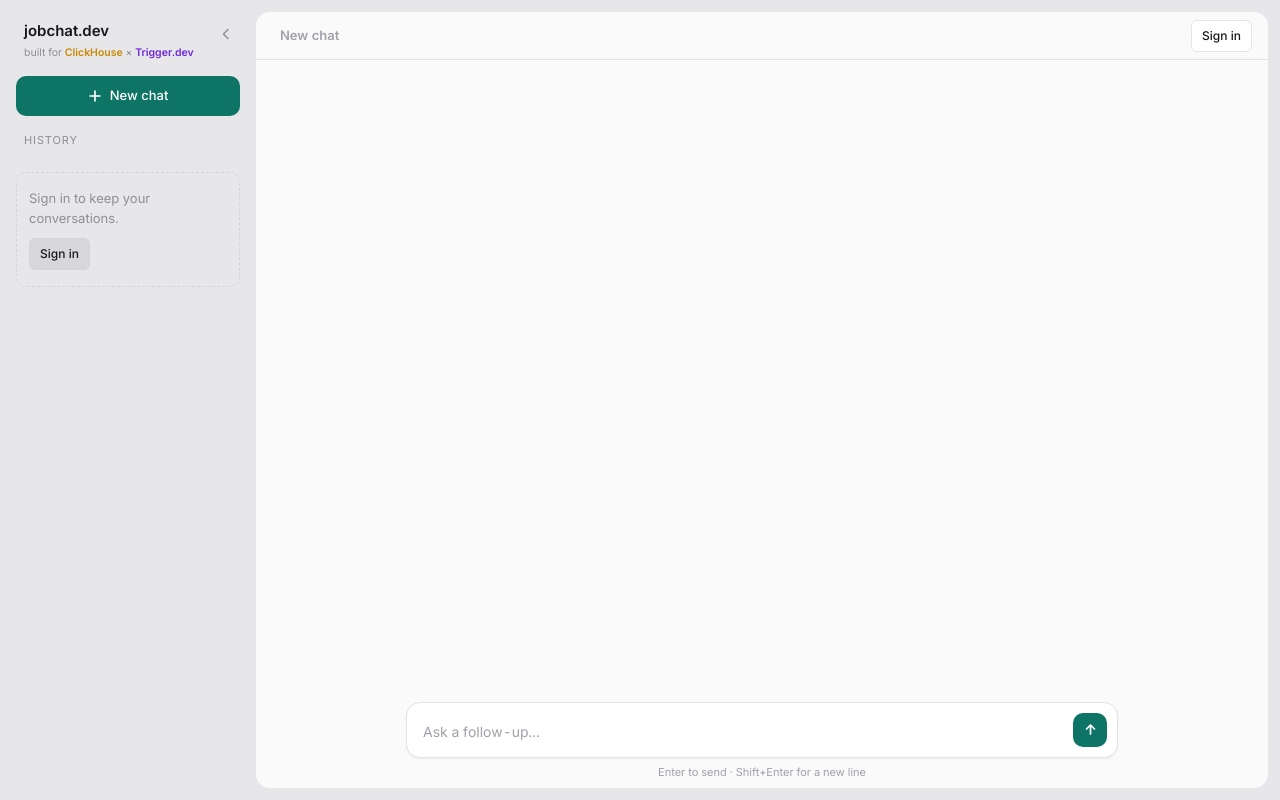
Test case: Should_ShowRegisterCardAndKeepComposerEnabled_When_Capped: chat composer
In the text box labelled "Ask a follow-up": (743, 731) [423, 716, 1063, 746], type "One more question"
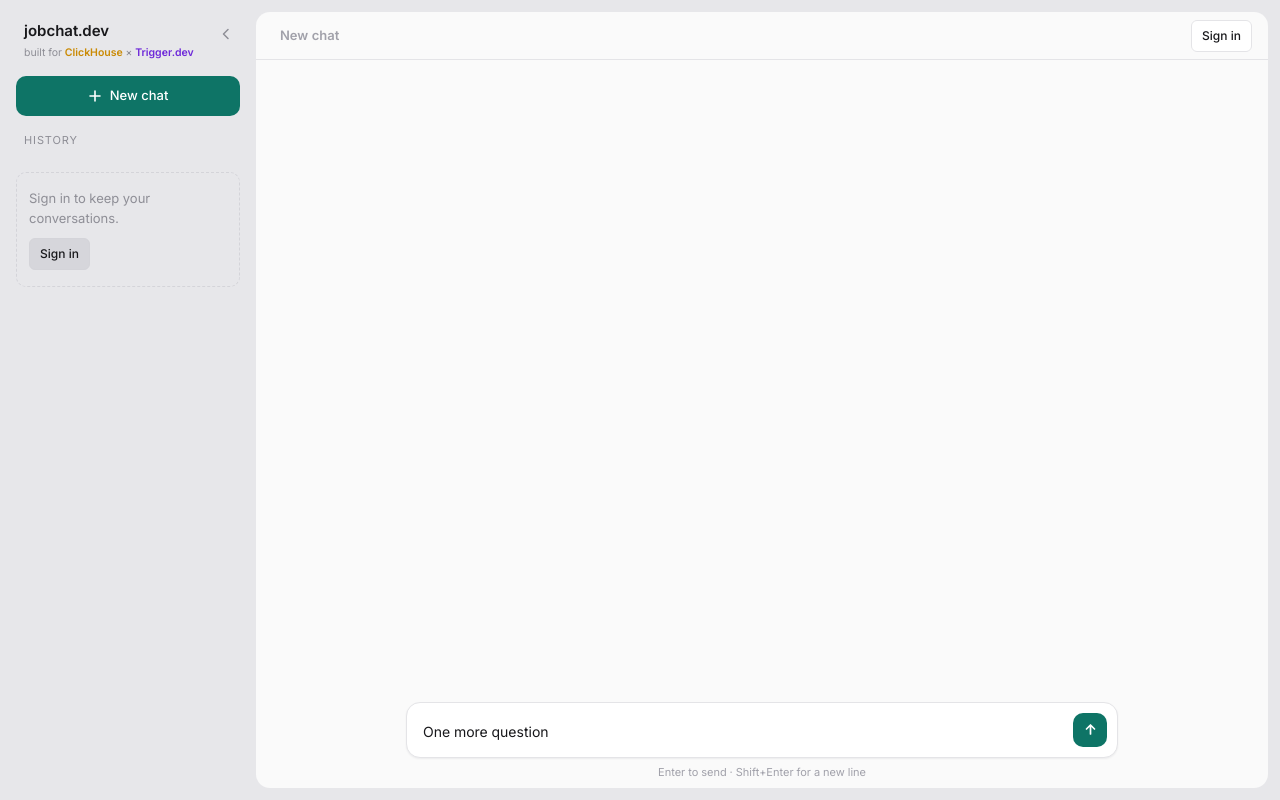
Press Enter in the text box named "Ask a follow-up", box [423, 716, 1063, 746]
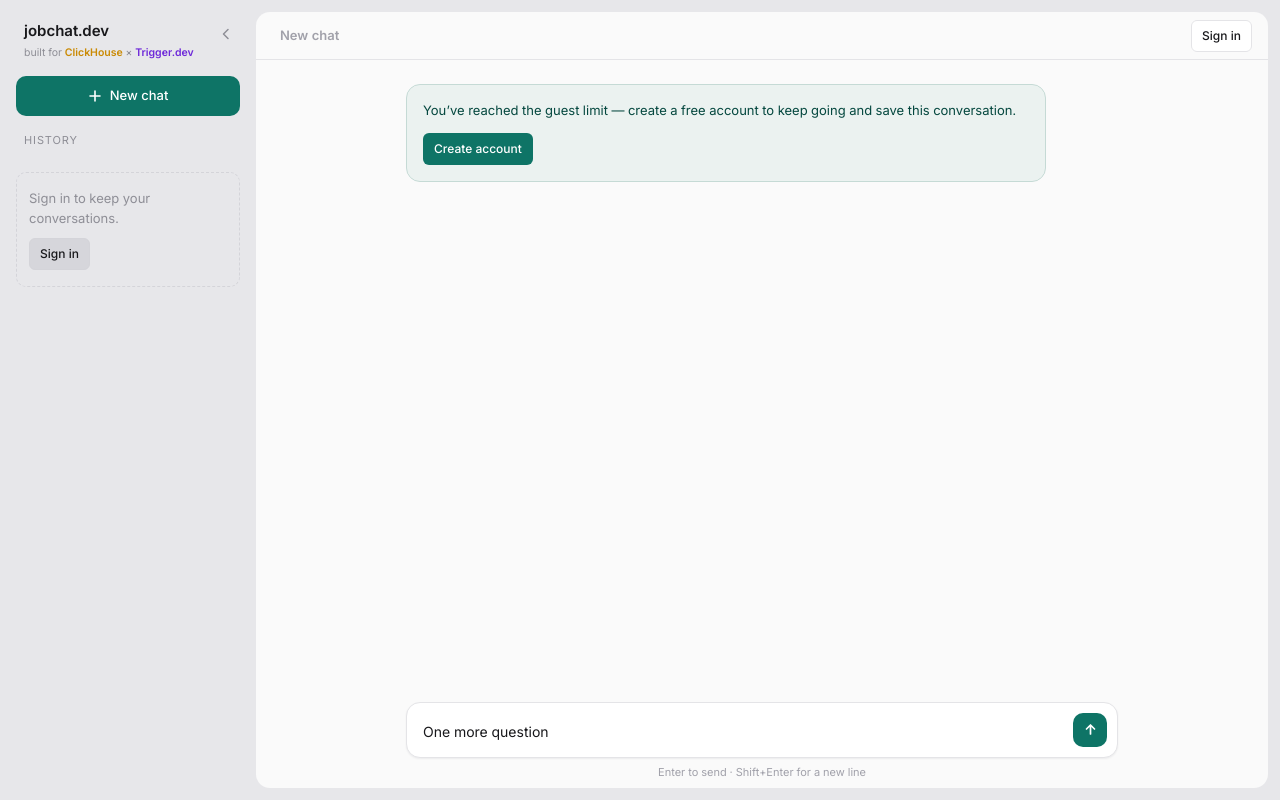
Expected: the element with class "register-card" is shown, [406, 84, 1046, 182]
Expected: the text "reached the guest limit" is shown, [423, 102, 1016, 118]
Expected: the button "Create account" is shown, [423, 132, 533, 164]
